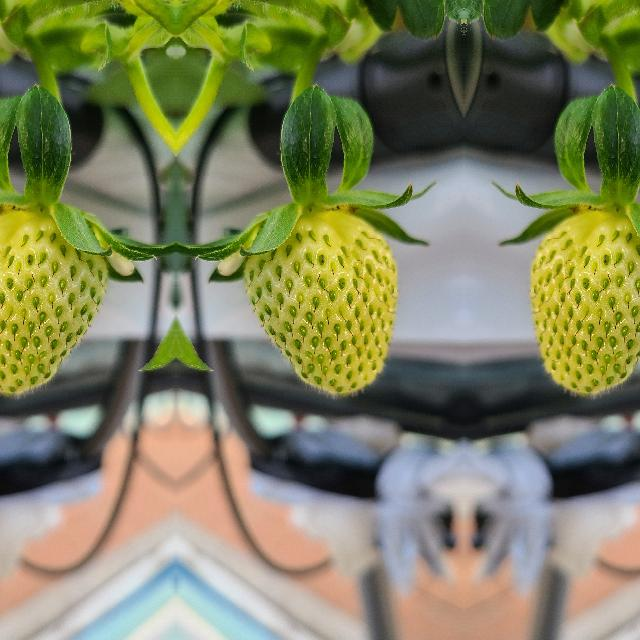Health_25: (240, 210, 398, 400), (527, 210, 640, 400), (0, 210, 110, 400)
